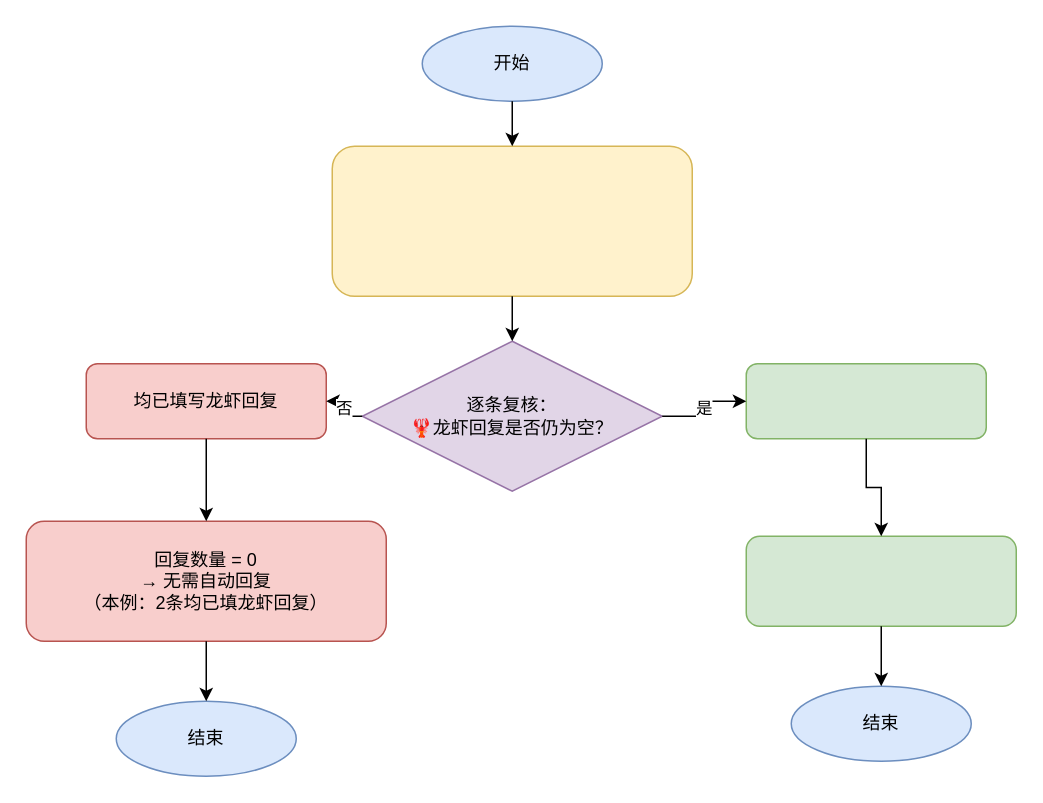
Image size: 1043x803. Some labels were removed from this diagram. The box of each missing label's shape, as (x1, y1, x2, y2) in pixels:
存在仍为空的记录: (745, 362, 986, 439)
按四条件筛选候选 回复人=邓阳武 状态=待回复 🦞龙虾回复=空 咨询回复=空: (331, 145, 692, 296)
有效待回复数 > 0 → 需🦞龙虾自动回复: (745, 535, 1016, 626)
